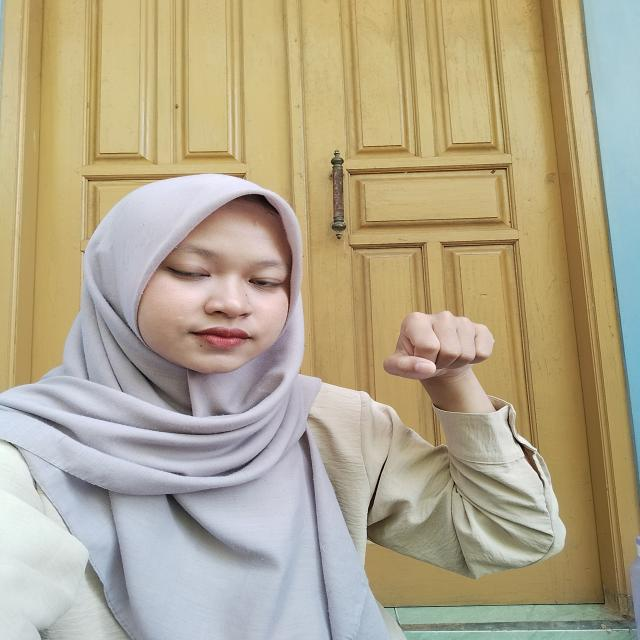baik: (371, 296, 539, 460)
